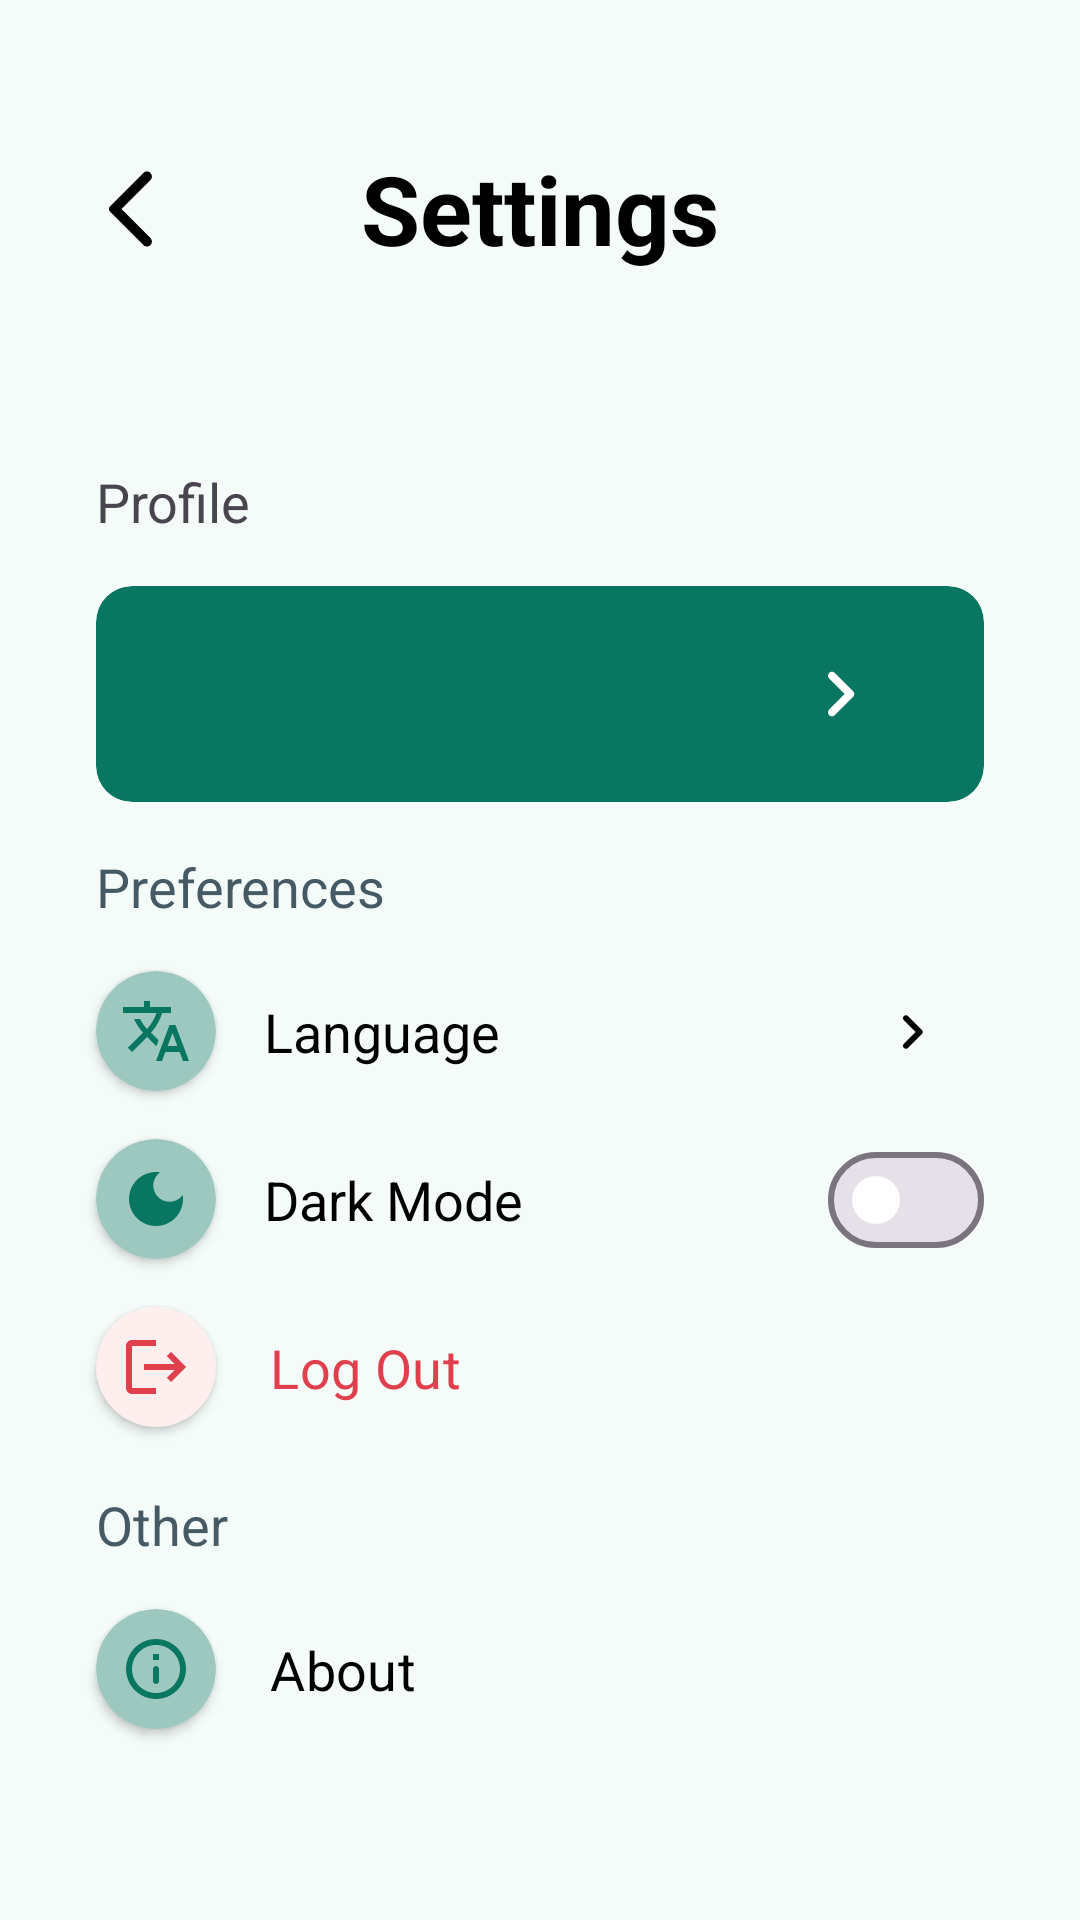

Screen size 1080×1920. Icon name, then its center in pixels as (x=x, y=y):
info: (x=156, y=1669)
